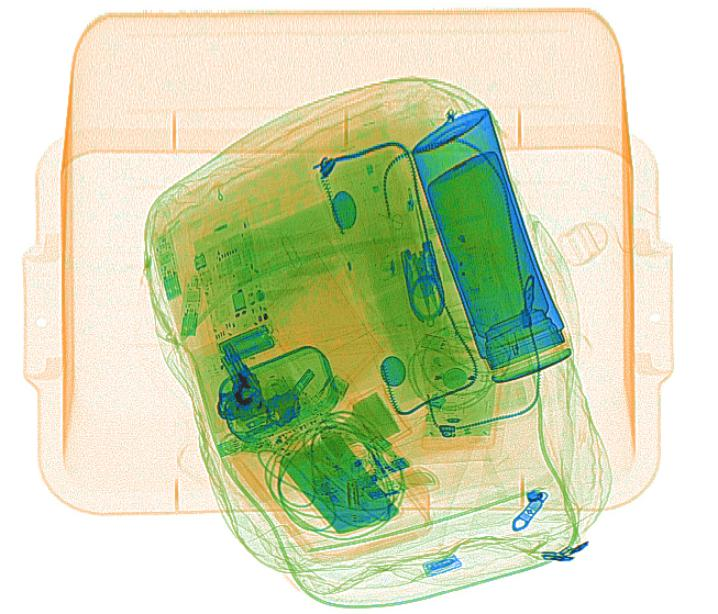USBFlashDisk: (148, 229, 183, 301), (176, 274, 201, 338)
battery: (214, 322, 276, 367)
scissors: (397, 236, 447, 329)
seal: (318, 390, 402, 461)
